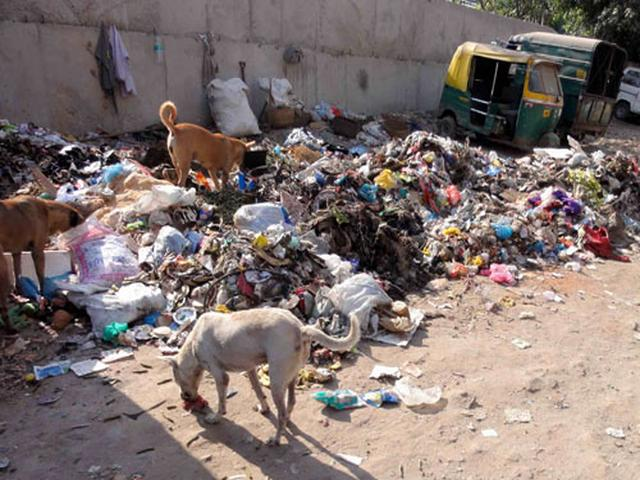garbage: (307, 125, 567, 247), (120, 201, 404, 308)
